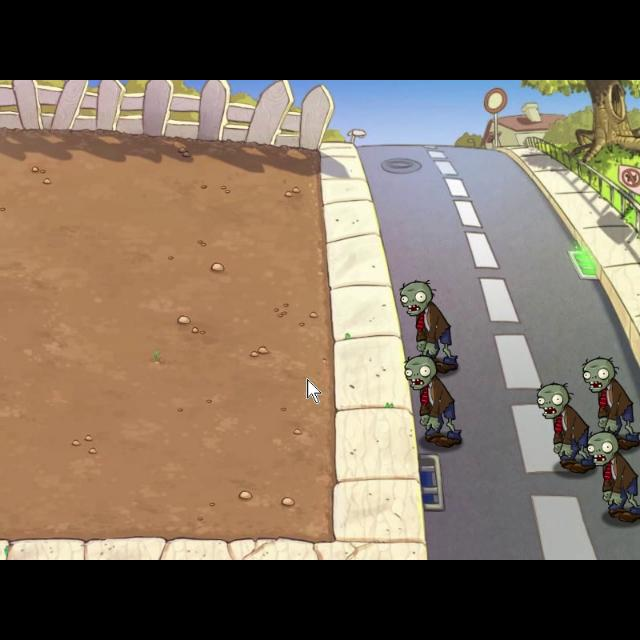Zombie: (396, 276, 462, 376), (402, 352, 468, 448), (533, 380, 599, 474), (578, 354, 640, 451), (584, 430, 640, 528)
